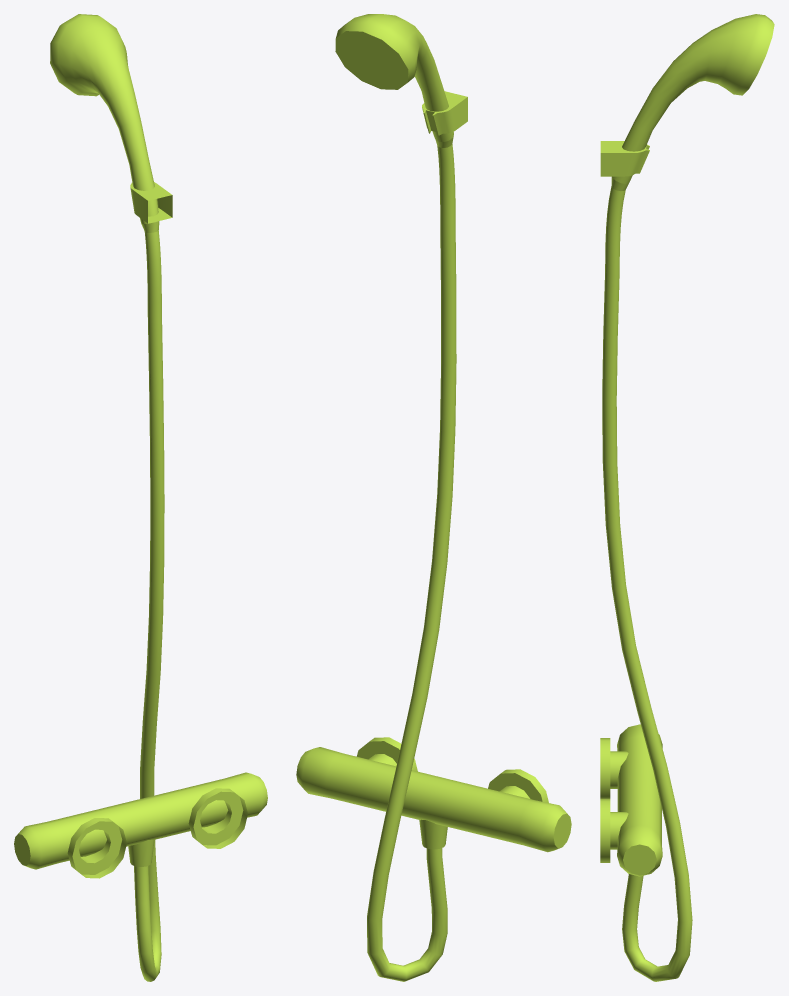
File: Shower_inside.FBX
The picture shows the model from 3 angles, left to right: view 1: azimuth 30°, elevation 25°; view 2: azimuth 150°, elevation 25°; view 3: azimuth 270°, elevation 25°; orthographic projection. The views are drawn at different scales.
Parts seen in each view (by area): view 1: Shower2; view 2: Shower2; view 3: Shower2.
Part boxes in pixels (left/top/right/bottom): Shower2: left=14, top=14, right=267, bottom=981; Shower2: left=296, top=14, right=571, bottom=981; Shower2: left=600, top=14, right=774, bottom=981.
Bounding box in the file's own units: 29.44 × 110 × 18.24.
